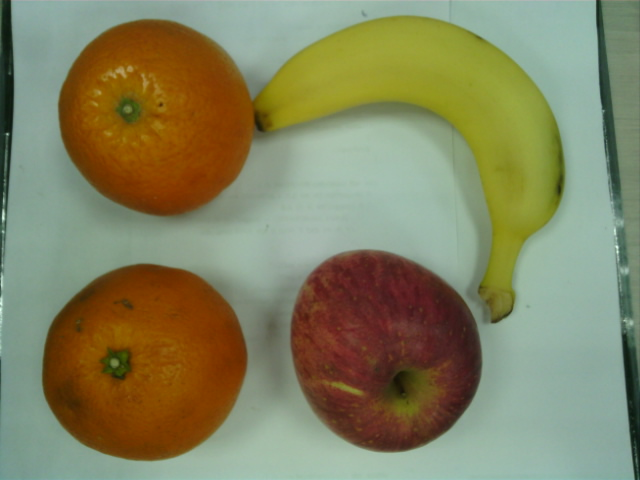normal_apple: (291, 249, 481, 454)
normal_banana: (257, 15, 563, 323)
normal_orange: (43, 263, 247, 461), (58, 19, 256, 214)
